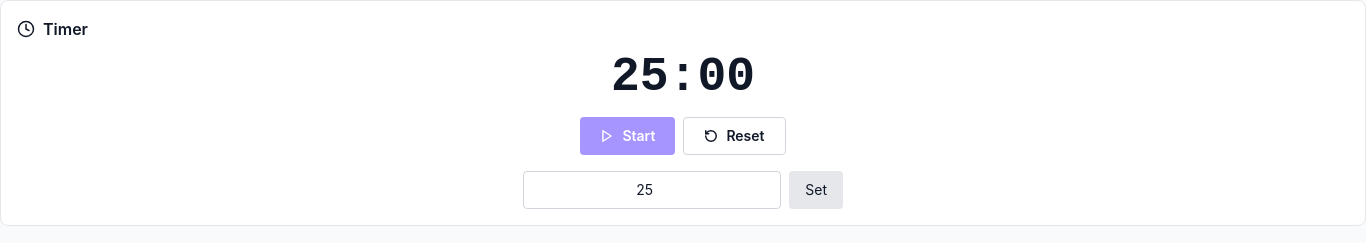
Scenario: TimerSection › should countdown timer correctly
Click the button "Start": (628, 136) [580, 117, 675, 155]
Wait 60000 ms
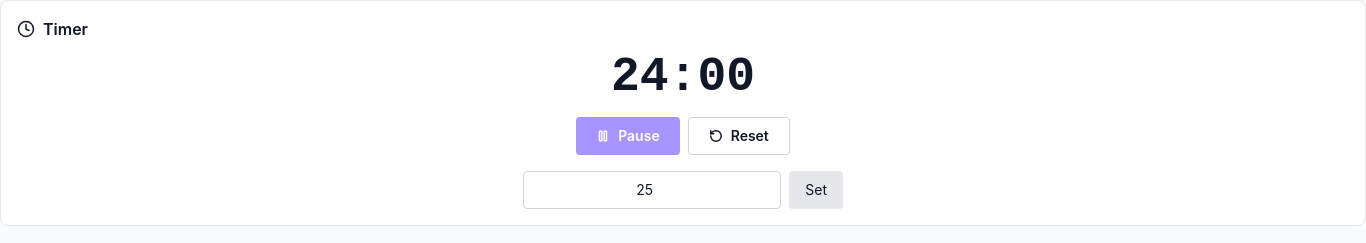
Result: the text "24:00" is shown at [611, 53, 755, 101]
